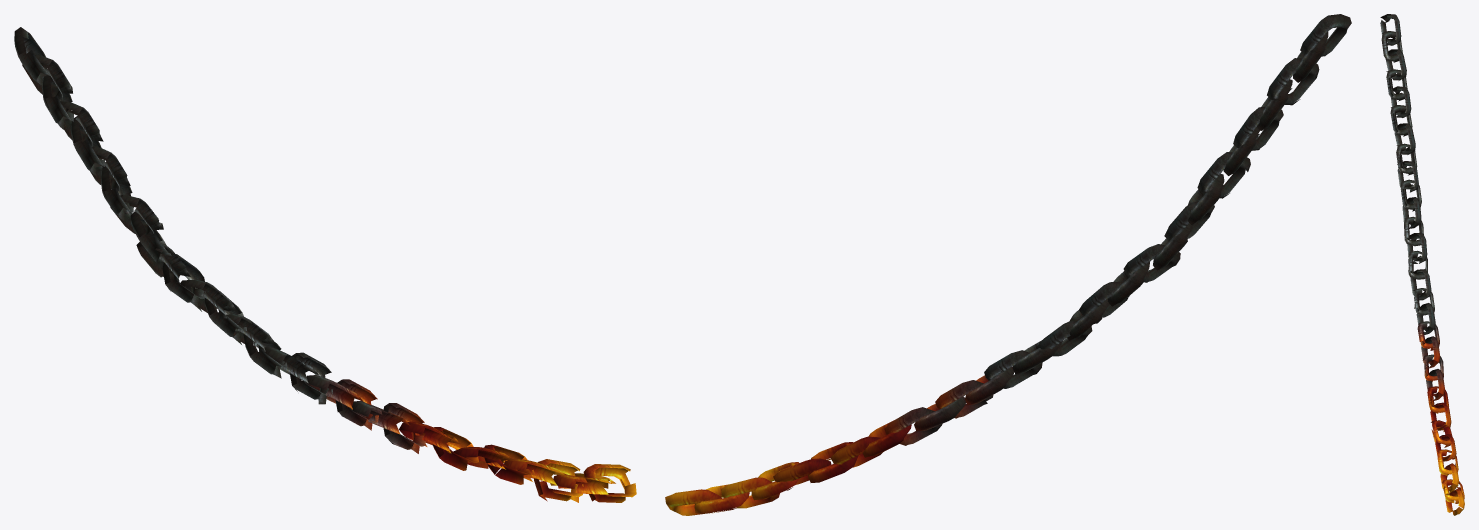
Rendered from S2_Build_XSC118_L2.FBX.
The picture shows the model from 3 angles, left to right: view 1: azimuth 30°, elevation 25°; view 2: azimuth 150°, elevation 25°; view 3: azimuth 270°, elevation 25°; orthographic projection. The views are drawn at different scales.
Parts seen in each view (by area): view 1: S2_Build_XSC118_L2; view 2: S2_Build_XSC118_L2; view 3: S2_Build_XSC118_L2.
Part boxes in pixels (x1,y1,x2,y2): S2_Build_XSC118_L2: (14, 27, 636, 502); S2_Build_XSC118_L2: (665, 14, 1351, 515); S2_Build_XSC118_L2: (1380, 14, 1464, 515).
Size of the model in its own units: 15385 by 14467 by 3276.
